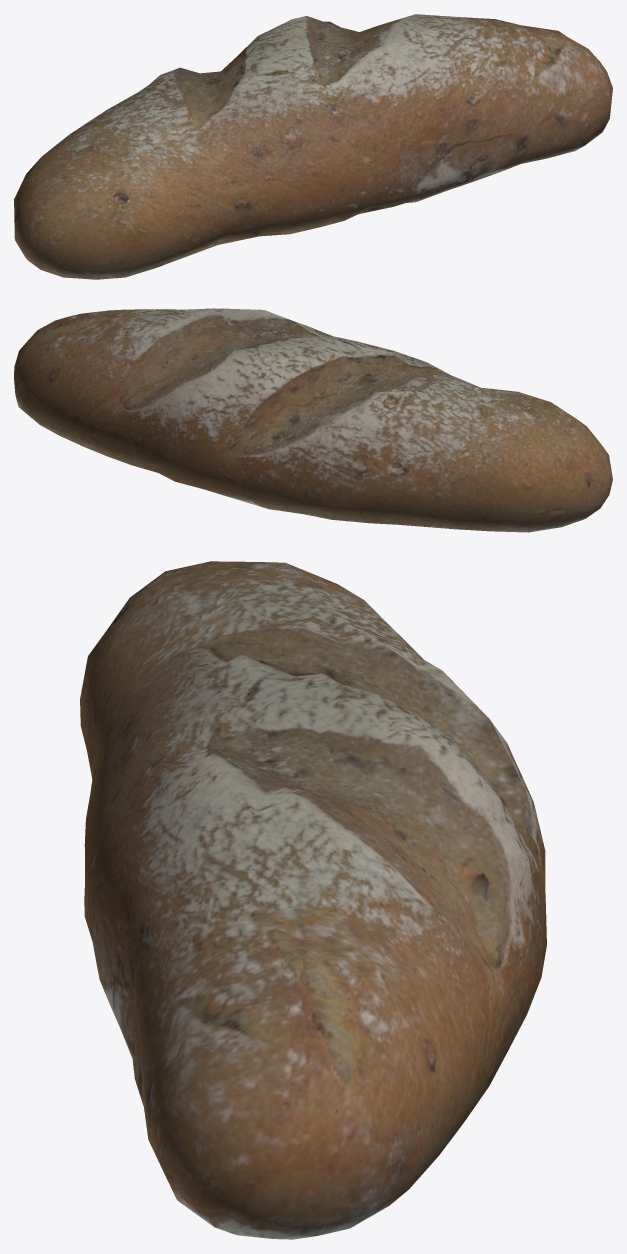
Rendered from SM_Bread.fbx.
The picture shows the model from 3 angles, top to bottom: view 1: azimuth 30°, elevation 25°; view 2: azimuth 150°, elevation 25°; view 3: azimuth 270°, elevation 25°; orthographic projection. The views are drawn at different scales.
Visible parts, largest first — view 1: Bread_LP_T_Cake_Export; view 2: Bread_LP_T_Cake_Export; view 3: Bread_LP_T_Cake_Export.
Part boxes in pixels (x1,y1,x2,y2): Bread_LP_T_Cake_Export: (14, 14, 612, 279); Bread_LP_T_Cake_Export: (14, 308, 612, 532); Bread_LP_T_Cake_Export: (80, 561, 546, 1239).
Size of the model in its own units: 15.6 by 3.76 by 5.55.
